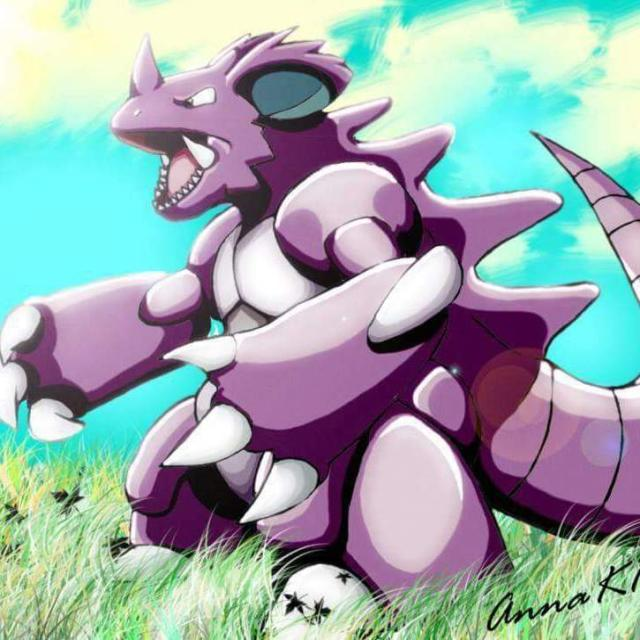Nidoking: (106, 31, 600, 567)
